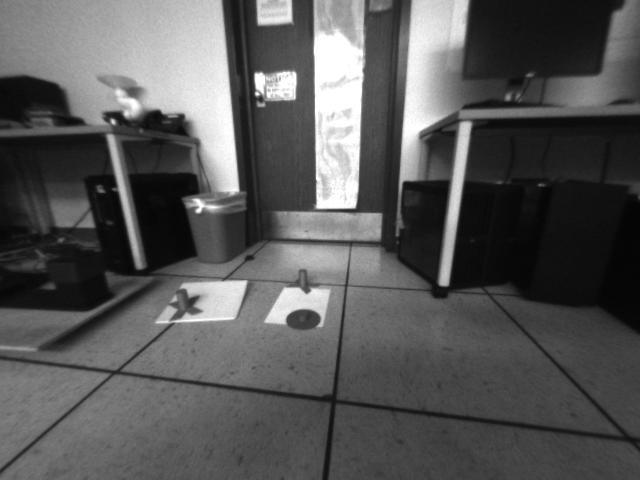X: (167, 288, 203, 320), (287, 268, 318, 296)
